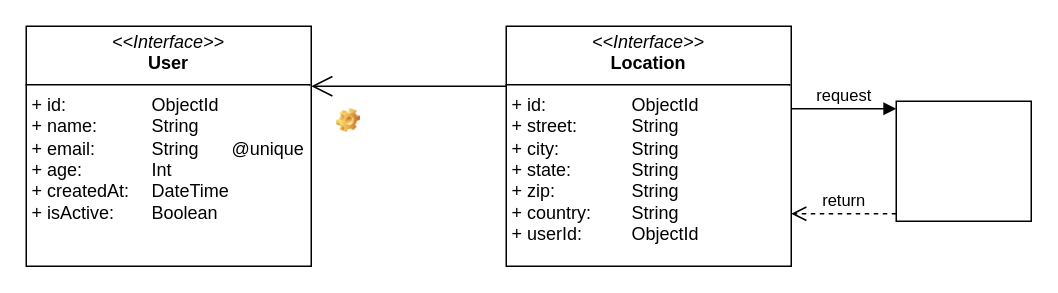
The diagram is 1058 pixels wide and 293 high, and some of its shapes have lost their labels. Here are the shapes that lost their labels. From the top down, the centre of each, then its label:
point 416,120: many to one
point 963,160: open cage data
